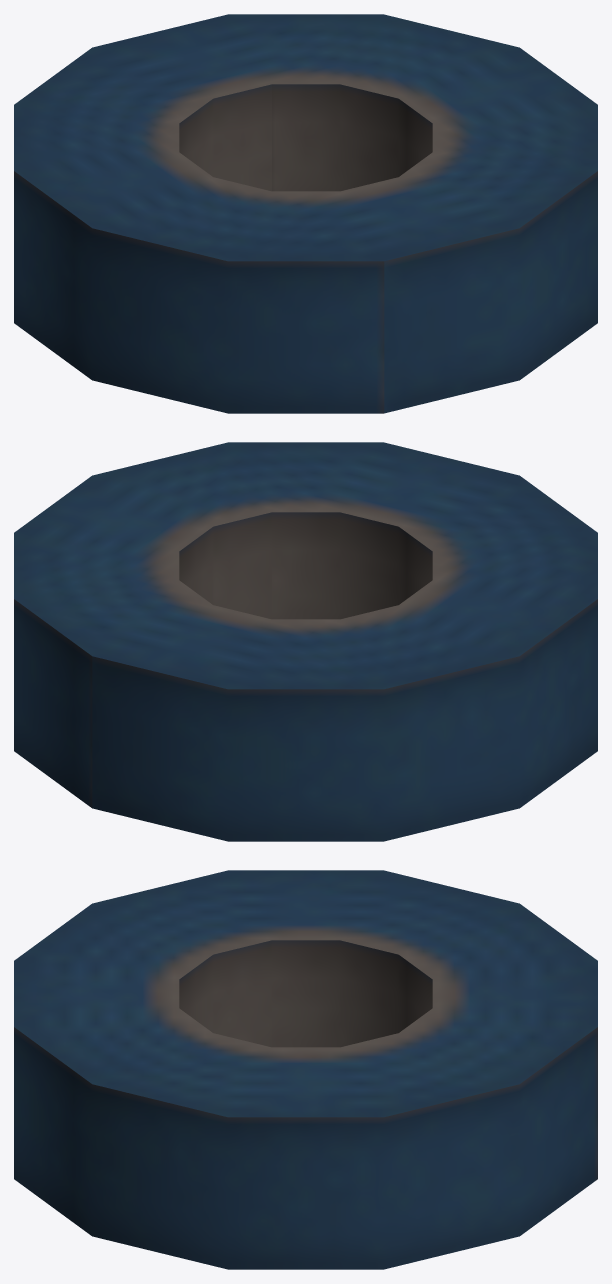
Rendered from electrical_tape_etx_1.obj.
The picture shows the model from 3 angles, top to bottom: view 1: azimuth 30°, elevation 25°; view 2: azimuth 150°, elevation 25°; view 3: azimuth 270°, elevation 25°; orthographic projection.
Parts seen in each view (by area): view 1: electrical_tape_etx_1; view 2: electrical_tape_etx_1; view 3: electrical_tape_etx_1.
Part boxes in pixels (left/top/right/bottom): electrical_tape_etx_1: left=14, top=14, right=597, bottom=413; electrical_tape_etx_1: left=14, top=442, right=597, bottom=841; electrical_tape_etx_1: left=14, top=870, right=597, bottom=1269.
Bounding box in the file's own units: 0.1043 × 0.03 × 0.1043.
